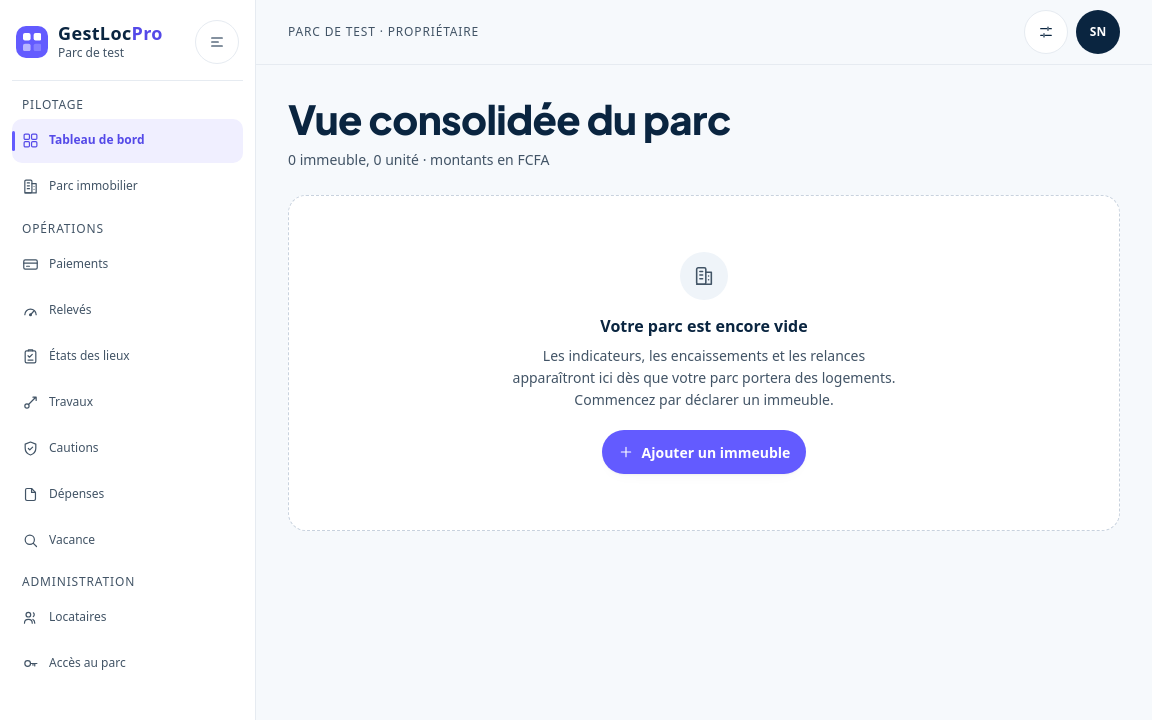
it: la sortie vers la vitrine › vit dans le menu du compte lorsqu’un compte est connecté
This screenshot has width=1152, height=720.
Expected: the menu item "retour au site" is not shown
Click the button with aria-label "compte" at (1098, 32), box [1076,10,1120,54]
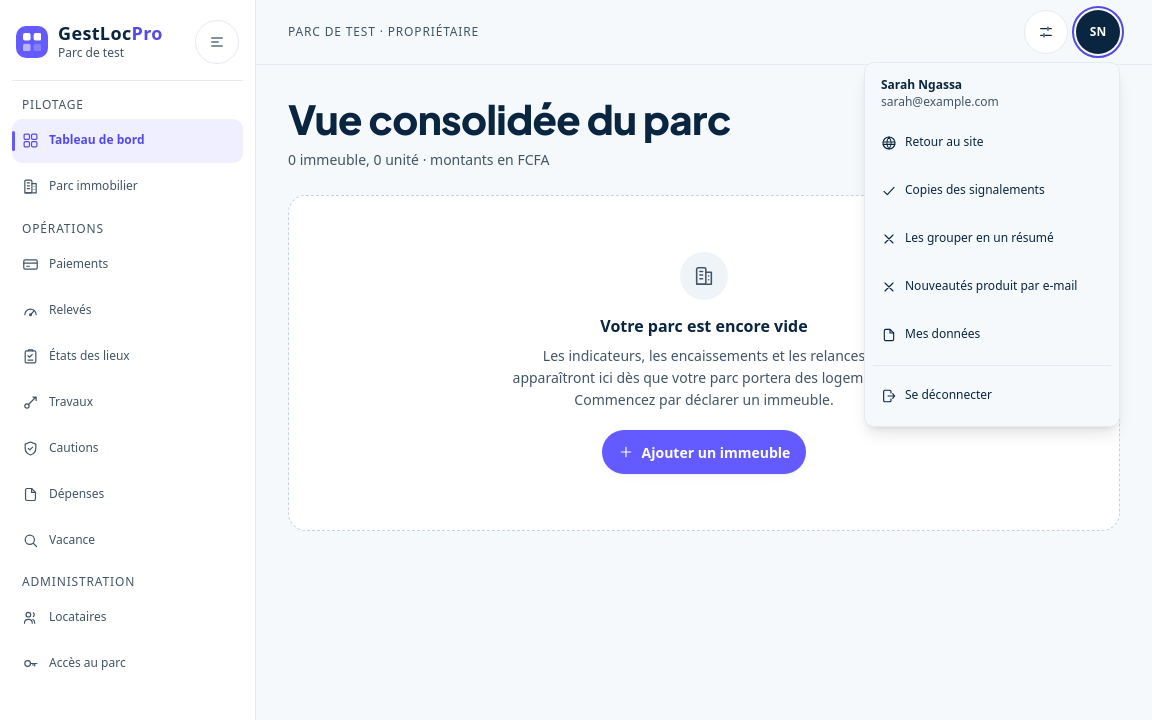
Expected: the menu item "Retour au site" is shown, [881,133,984,151]
